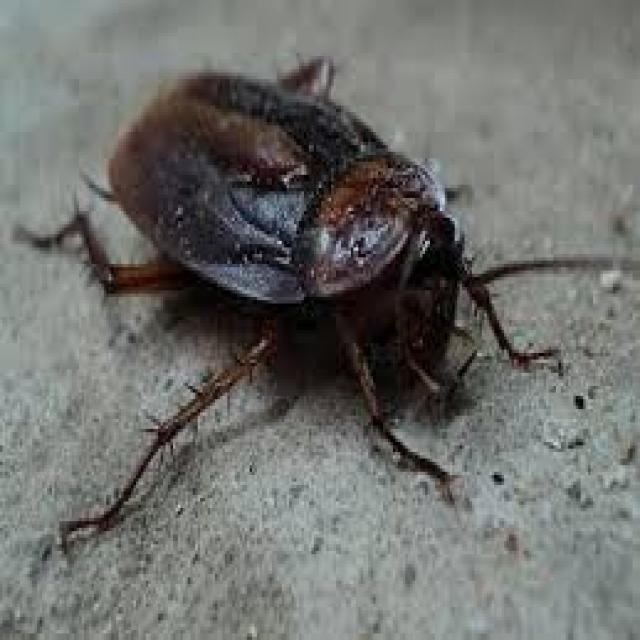Cockroach: (8, 49, 640, 572)
